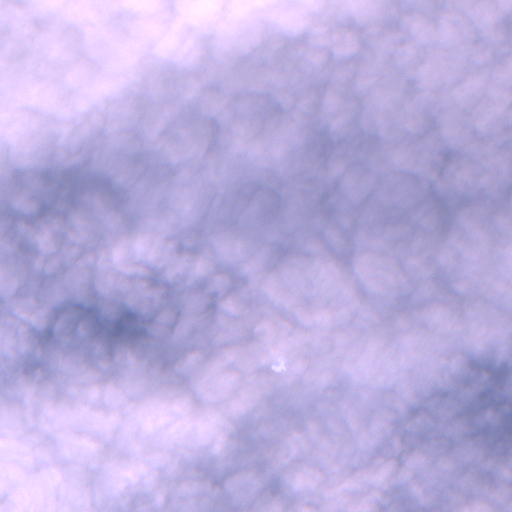Iceberg: (271, 360, 285, 371)
